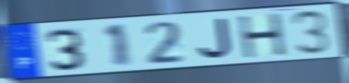1: (103, 22, 133, 69)
2: (144, 20, 185, 66)
3: (290, 8, 332, 56), (44, 27, 88, 72)
H: (236, 11, 289, 60)
J: (196, 16, 233, 61)
